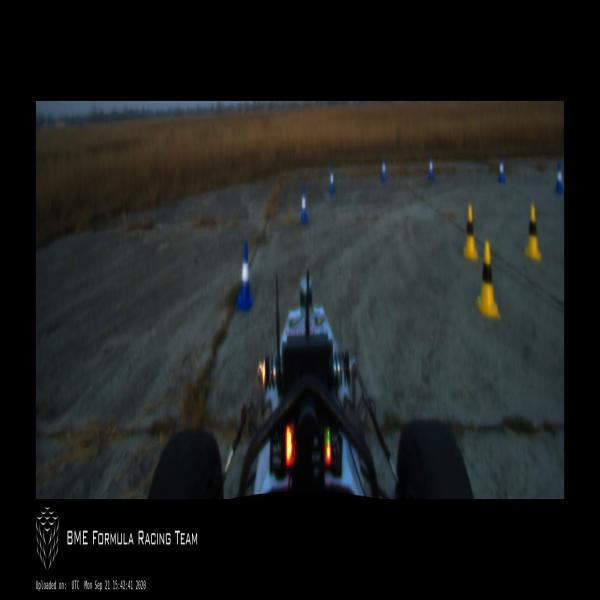blue_cone: (236, 244, 253, 310), (554, 162, 564, 196), (300, 186, 308, 224), (497, 156, 506, 184), (328, 168, 334, 194), (380, 156, 386, 182), (428, 154, 434, 180)
yellow_cone: (476, 242, 501, 318), (525, 206, 542, 261), (464, 206, 479, 258)
